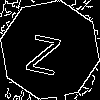Z: (25, 25, 65, 76)
